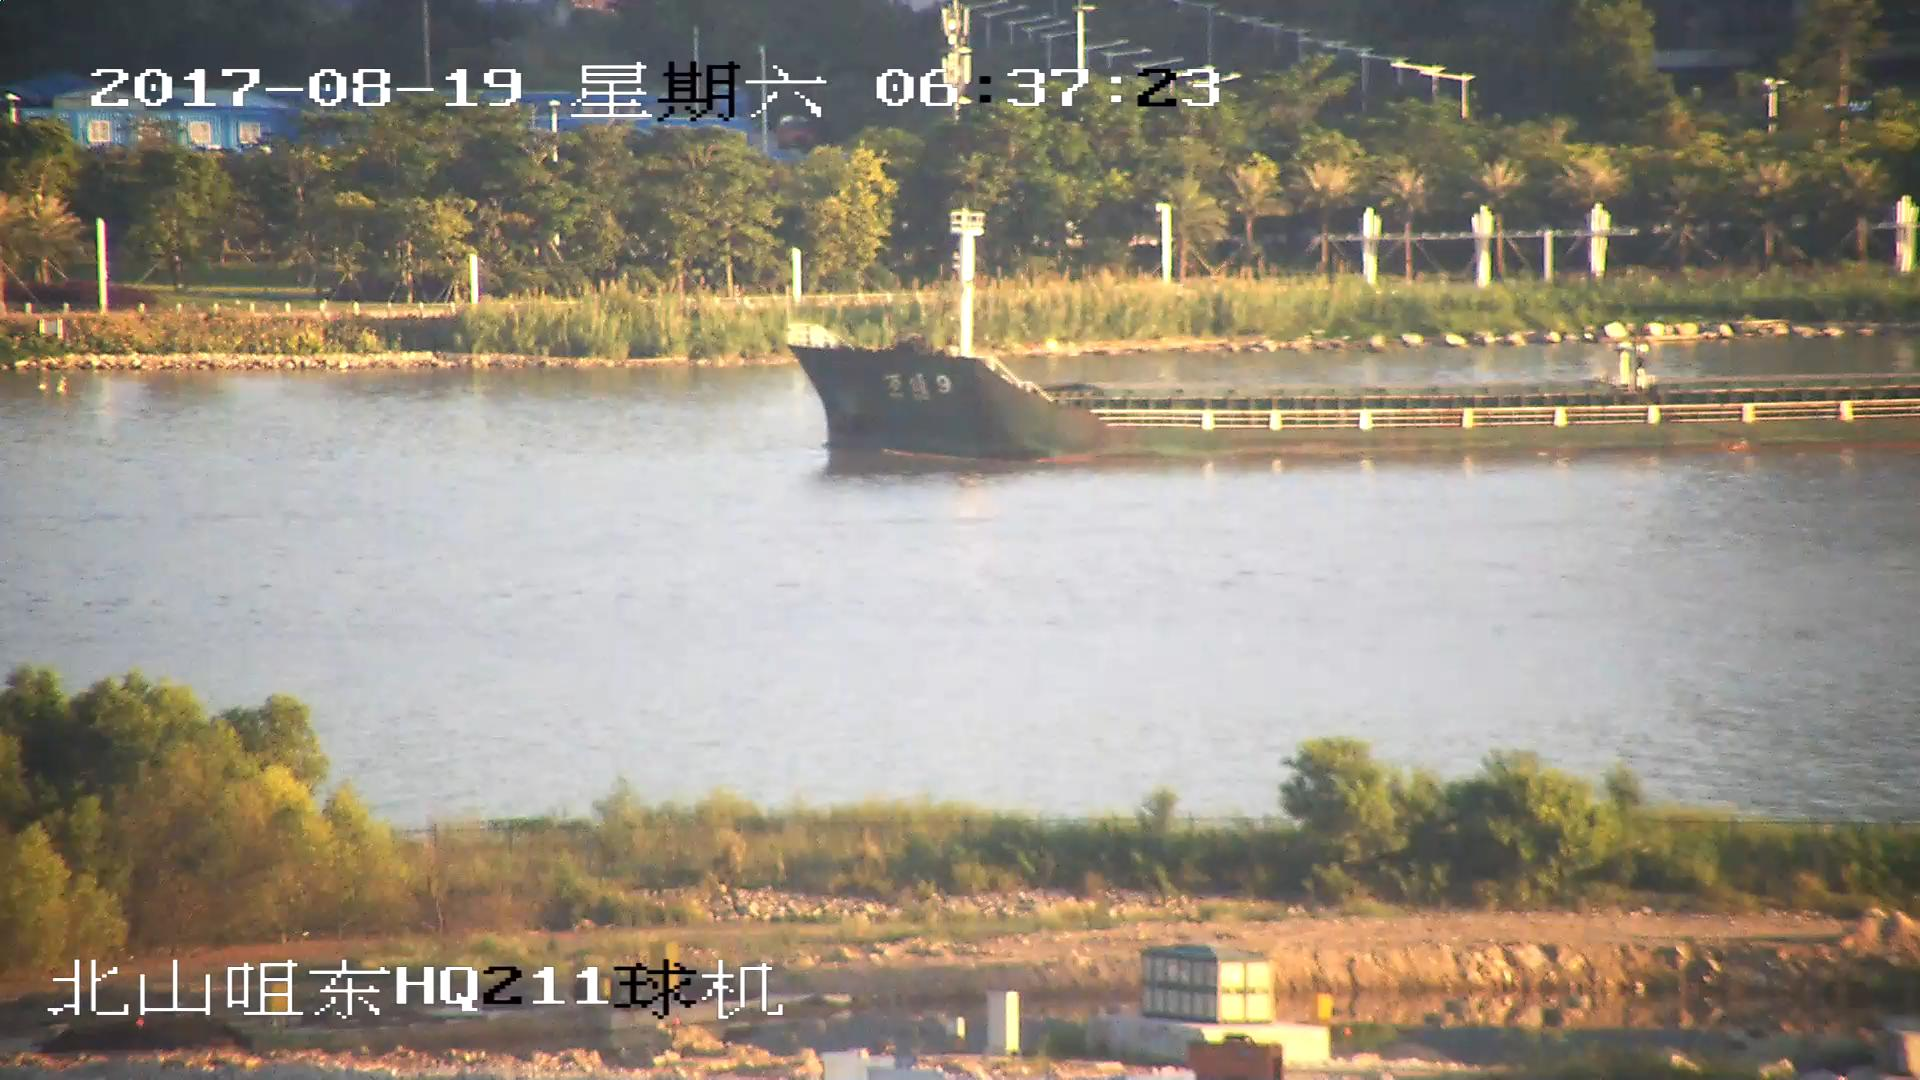general cargo ship: (789, 224, 1920, 458)
